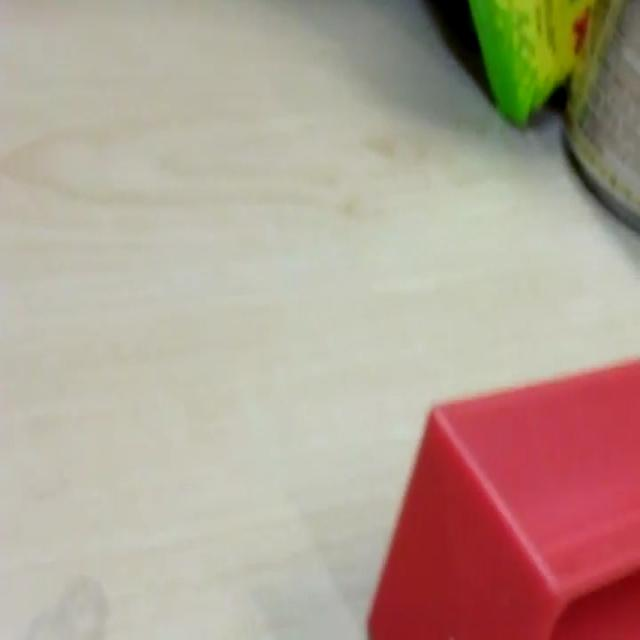red_block: (366, 352, 639, 637)
